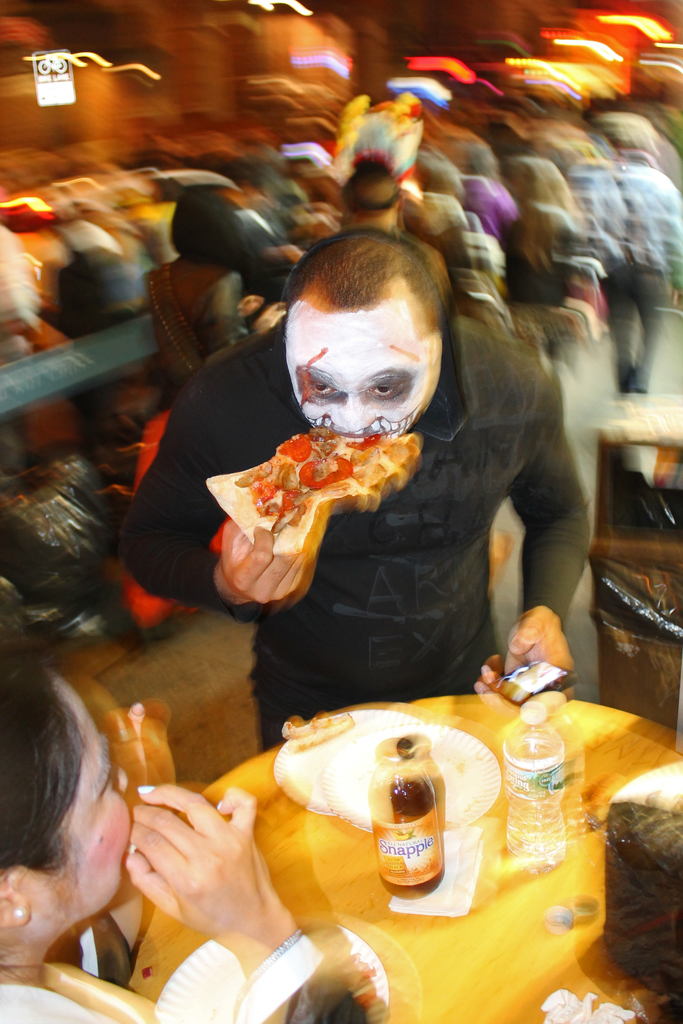Pizza: (195, 417, 442, 574)
